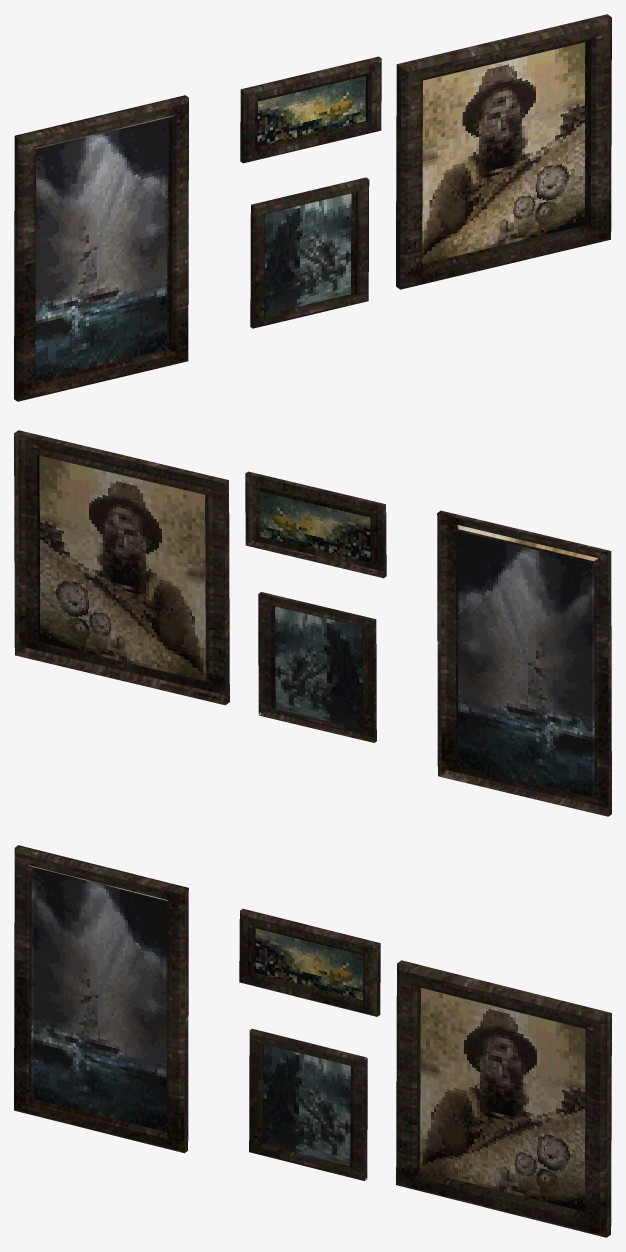
The model's file is PaintingCollection.fbx.
3 renders of one model, top to bottom at view 1: azimuth 30°, elevation 25°; view 2: azimuth 150°, elevation 25°; view 3: azimuth 330°, elevation 25°, orthographic.
Visible parts, largest first — view 1: Painting_Set; view 2: Painting_Set; view 3: Painting_Set.
Boxes of the visible parts, x1,y1,x2,y2 form: Painting_Set: (14, 14, 611, 401); Painting_Set: (14, 430, 611, 816); Painting_Set: (14, 845, 611, 1237).
Size of the model in its own units: 277 by 118 by 5.47.
1 material, 1 textured.
